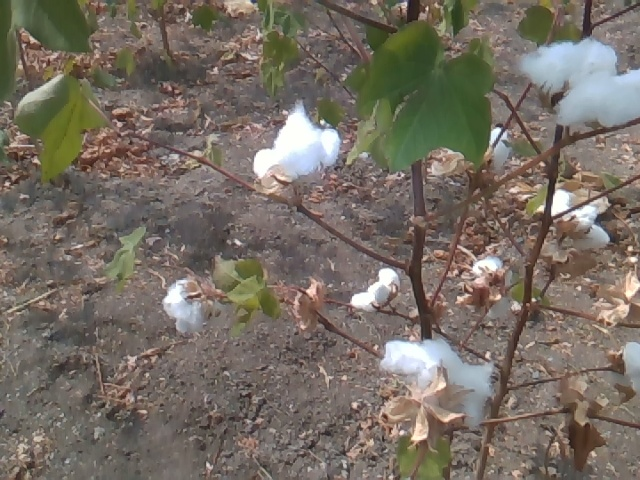cotton: (373, 335, 505, 432), (518, 33, 639, 131), (249, 99, 340, 196), (539, 189, 617, 259), (156, 276, 225, 335), (341, 264, 405, 320), (465, 120, 522, 177), (468, 248, 517, 309), (625, 340, 640, 407)
